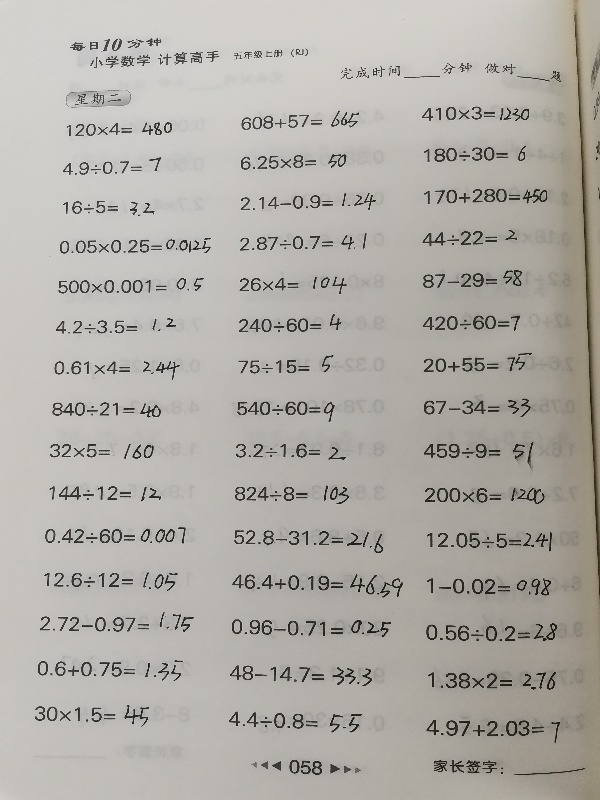equation: (229, 566, 406, 597), (37, 608, 198, 636), (230, 525, 388, 553), (422, 714, 572, 743), (34, 657, 187, 685), (227, 615, 394, 640), (420, 438, 538, 472), (225, 708, 365, 736), (226, 662, 375, 688), (56, 234, 215, 258), (232, 478, 355, 508), (41, 569, 182, 595), (40, 523, 189, 547), (237, 189, 379, 214), (54, 274, 207, 297), (422, 620, 561, 645), (423, 529, 556, 555), (50, 357, 183, 383), (30, 700, 152, 728), (425, 669, 560, 694), (424, 575, 555, 600), (237, 107, 362, 133), (236, 231, 370, 255), (422, 484, 549, 509), (420, 395, 535, 422), (53, 312, 182, 336), (420, 185, 552, 208), (419, 351, 536, 376), (232, 397, 338, 424), (45, 481, 164, 504), (237, 274, 351, 298), (232, 439, 349, 462), (418, 266, 525, 291), (46, 439, 161, 462), (235, 312, 344, 336), (421, 141, 530, 165), (48, 398, 164, 420), (419, 103, 534, 125), (236, 150, 349, 172), (234, 354, 337, 378), (420, 312, 524, 335), (62, 119, 175, 140), (418, 226, 520, 249), (59, 156, 164, 178), (59, 196, 158, 219)
